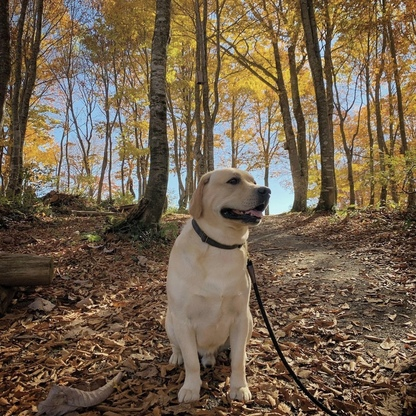labrado: (161, 163, 274, 406)
